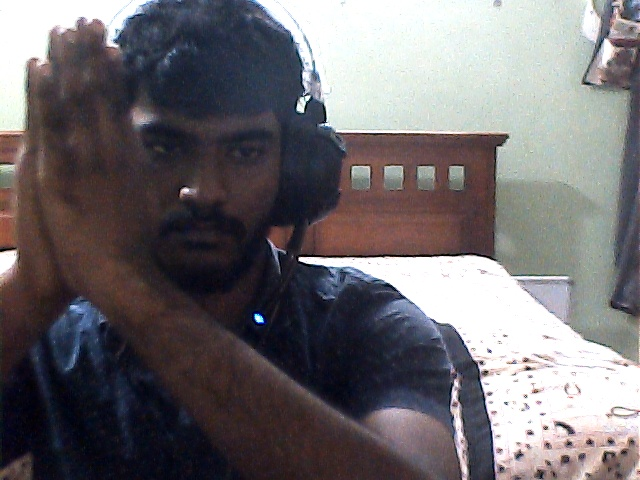Sign: (13, 17, 165, 304)
